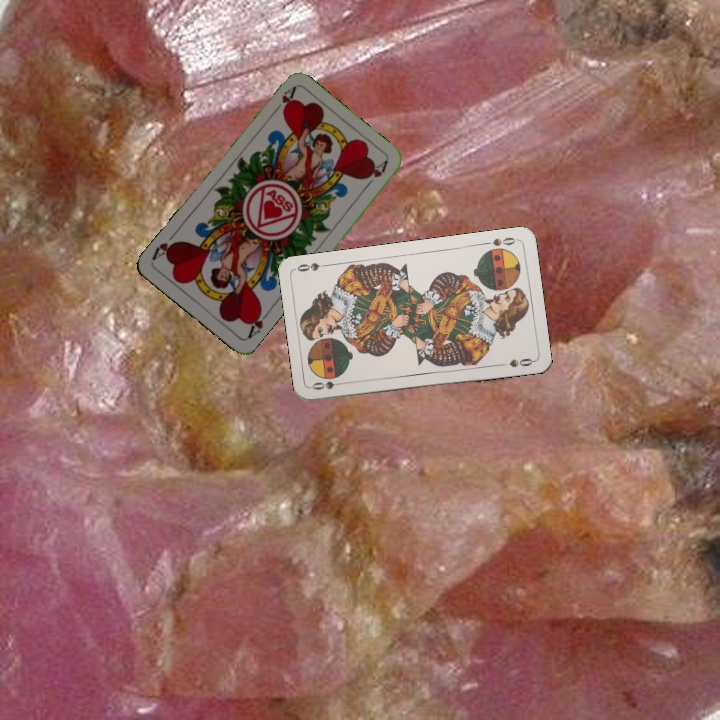HA: (267, 83, 298, 118), (243, 305, 273, 341)
SO: (479, 233, 520, 248), (308, 377, 348, 392)
